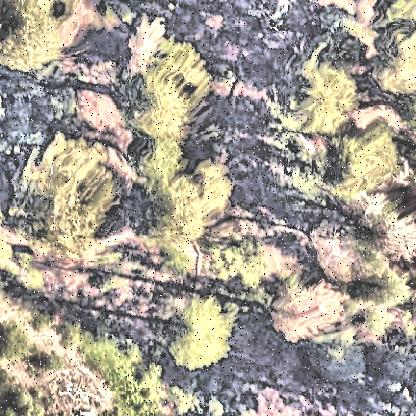tree-top: (4, 142, 132, 255), (121, 44, 215, 162), (276, 51, 364, 139), (162, 294, 240, 374), (89, 341, 169, 415), (136, 172, 213, 245), (333, 127, 407, 200), (3, 3, 71, 75), (272, 278, 346, 344), (349, 249, 416, 319), (203, 223, 269, 293), (369, 14, 416, 99), (307, 221, 373, 277), (113, 23, 163, 81), (194, 158, 244, 214), (1, 387, 55, 416), (1, 319, 35, 365), (401, 86, 416, 146)
